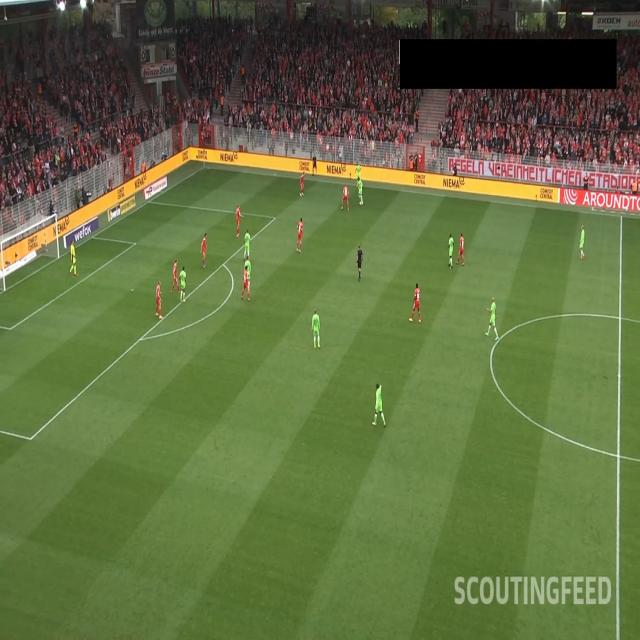ball: (359, 201, 362, 206)
